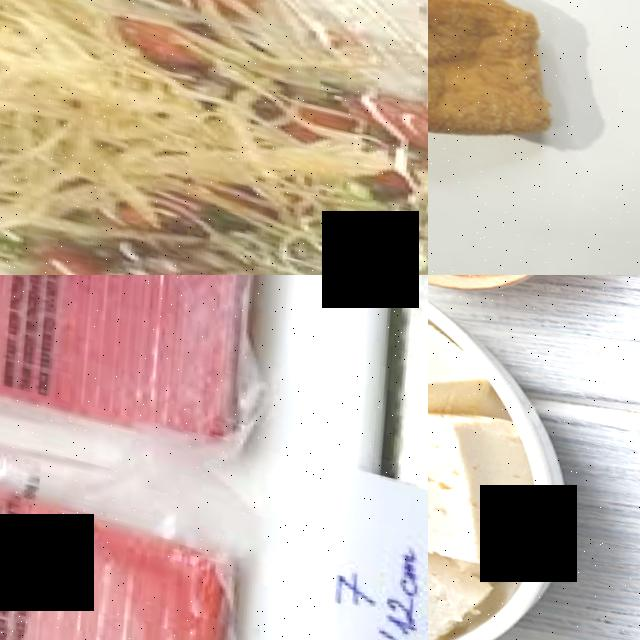tofu: (428, 0, 571, 161), (428, 388, 535, 570), (428, 528, 484, 640)
